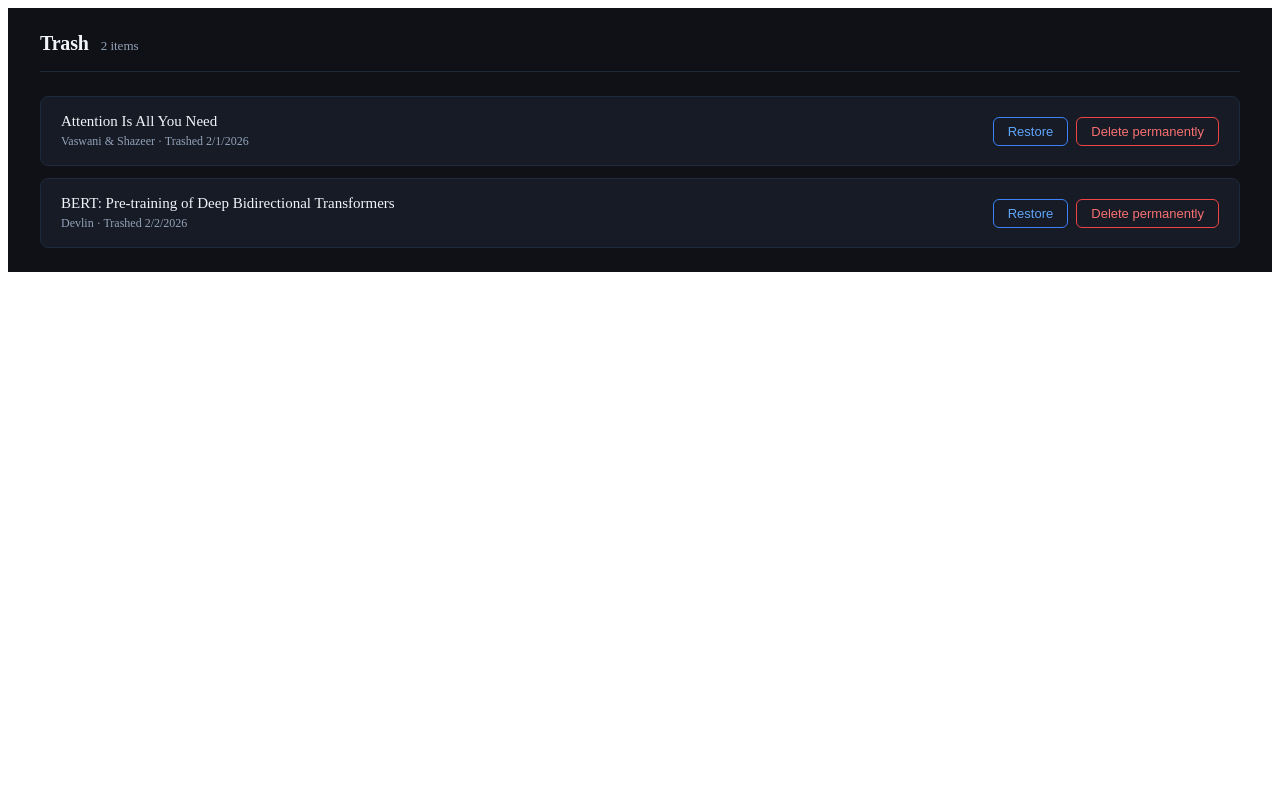
Test: TrashView [L2-04] › opens confirmation modal and cancels purge when Cancel is clicked
Click the button with aria-label "Delete Attention Is All You Need permanently": (1148, 131) left=1076, top=116, right=1219, bottom=146
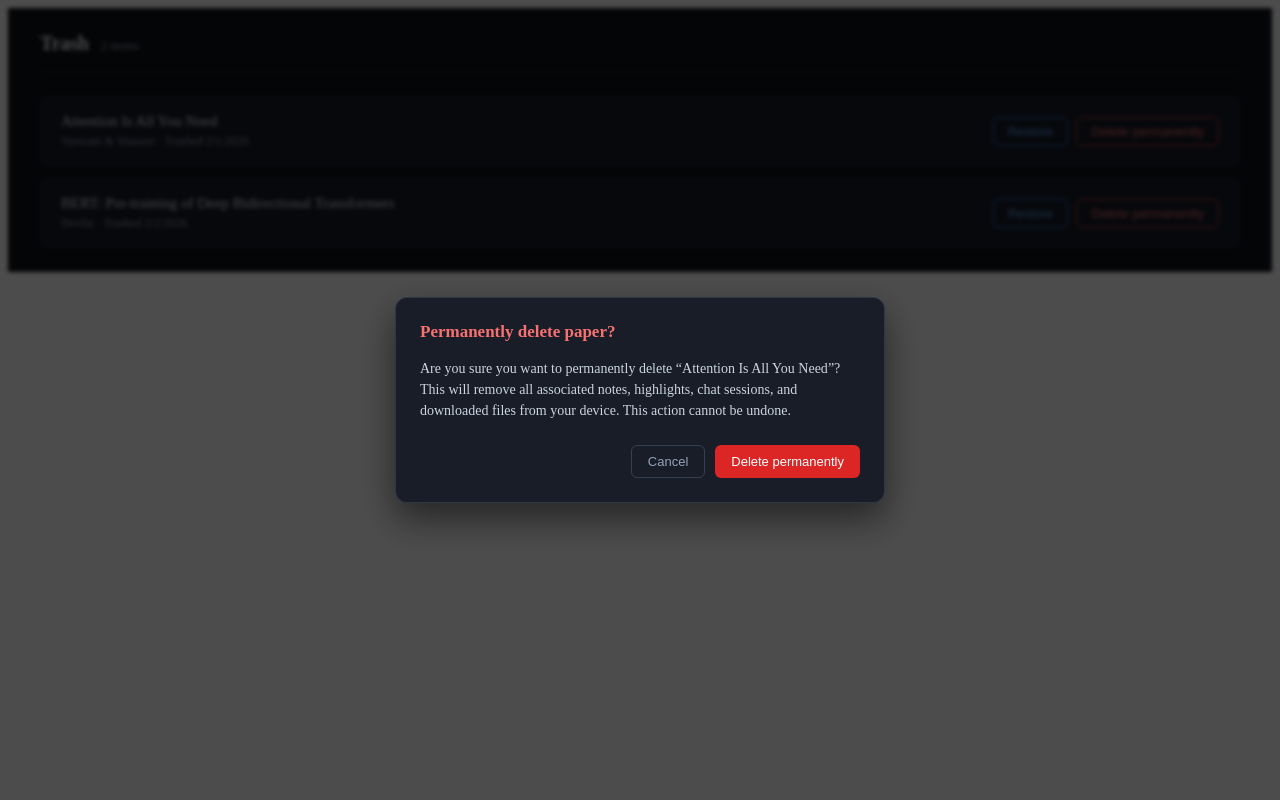
expect the dialog is shown: met
expect the text "This action cannot be undone" is shown: met, box left=420, top=361, right=840, bottom=418
Click the button with aria-label "Cancel purge": (668, 462) left=631, top=445, right=705, bottom=478
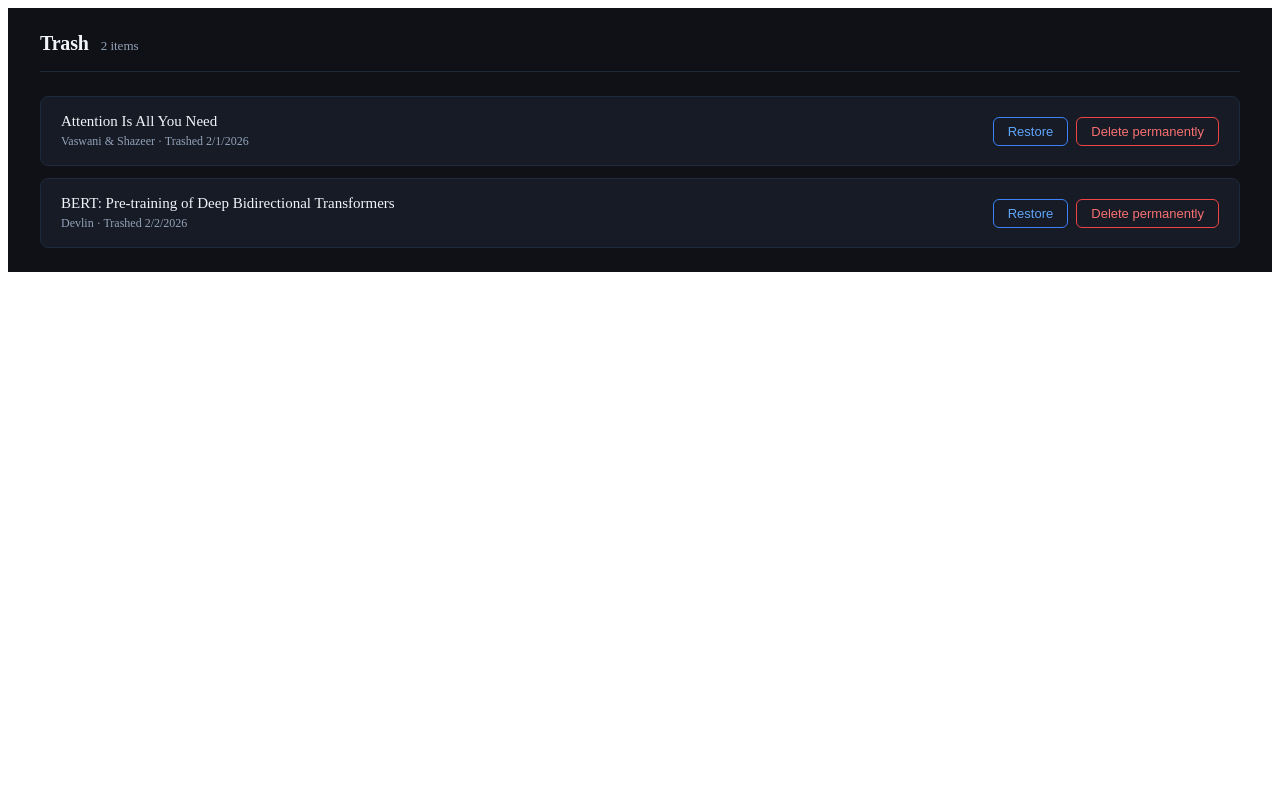
expect the dialog is gone: met
